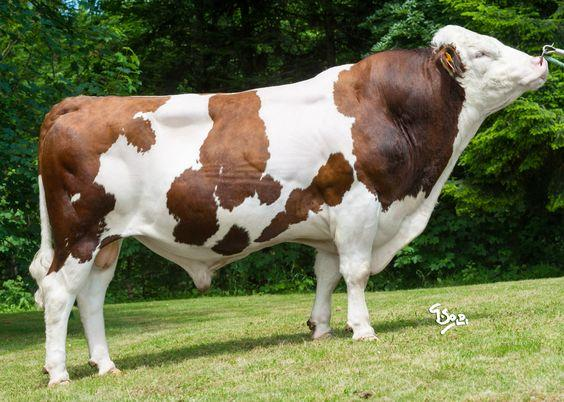cow: (19, 30, 550, 363)
